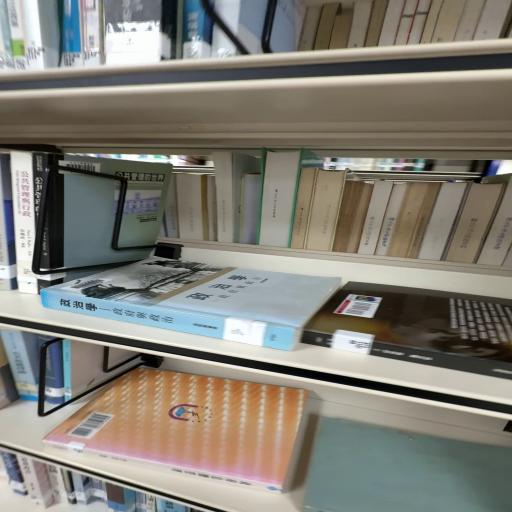flat: (44, 369, 309, 495), (41, 257, 342, 351), (303, 283, 512, 382), (304, 418, 512, 512)
